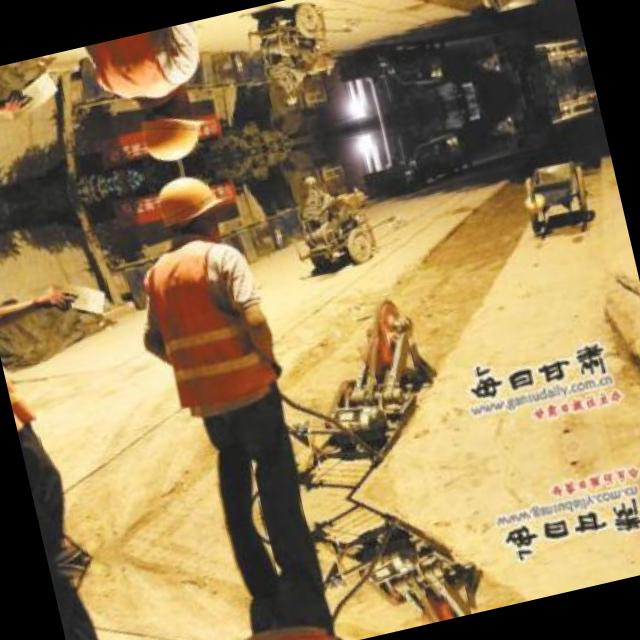helmet: (147, 165, 223, 237), (132, 100, 208, 172)
